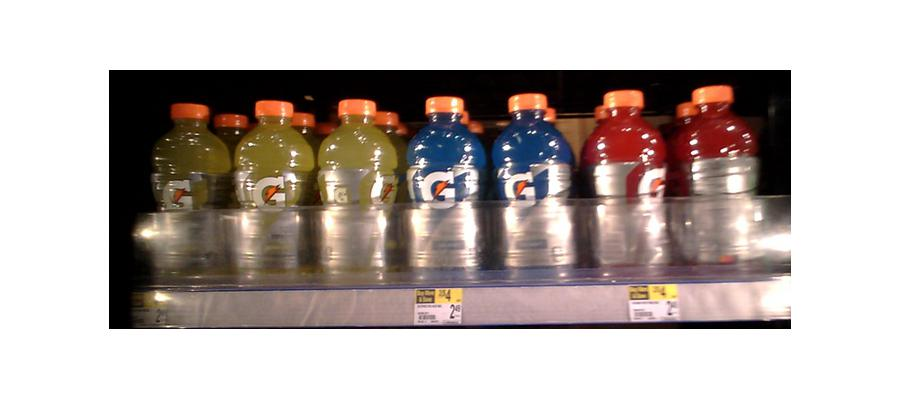bottle: (671, 82, 759, 276), (583, 89, 667, 278), (491, 91, 574, 282), (403, 92, 483, 282), (316, 99, 396, 285), (147, 101, 224, 288), (231, 97, 306, 285)
